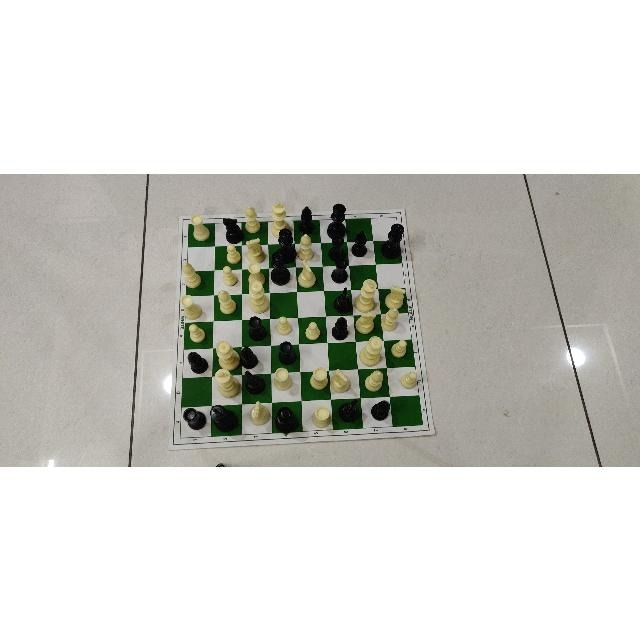black-bishop: (296, 204, 316, 235), (350, 229, 370, 259), (185, 348, 208, 373), (369, 399, 392, 422), (239, 344, 259, 369), (331, 314, 349, 341)
black-king: (209, 404, 240, 434), (327, 203, 349, 239)
black-knight: (242, 368, 265, 395), (221, 216, 243, 244), (339, 397, 361, 424), (333, 286, 352, 312)
black-queen: (383, 222, 407, 260), (272, 403, 298, 432), (269, 250, 291, 284), (277, 227, 297, 263)
black-rook: (181, 405, 207, 432), (275, 340, 298, 365), (248, 315, 268, 341), (330, 257, 350, 283), (328, 237, 348, 261)
white-bishop: (180, 260, 204, 289), (363, 366, 386, 391), (216, 290, 239, 314), (297, 233, 316, 260), (244, 206, 261, 234), (380, 306, 399, 331)
white-king: (215, 365, 241, 397), (354, 278, 377, 312), (270, 201, 292, 235)
white-knight: (296, 259, 318, 289), (352, 312, 379, 336), (384, 282, 404, 311), (245, 238, 267, 263), (248, 401, 269, 427), (331, 369, 351, 394)
white-pawn: (186, 321, 208, 344), (220, 266, 240, 288), (399, 370, 421, 390), (223, 243, 242, 264), (390, 337, 408, 359), (303, 320, 322, 339), (275, 316, 293, 335)
white-queen: (359, 336, 382, 366), (216, 341, 238, 371), (249, 280, 269, 312)
white-rook: (189, 214, 211, 243), (179, 294, 204, 319), (310, 404, 333, 429), (272, 366, 293, 391), (309, 367, 329, 391)
